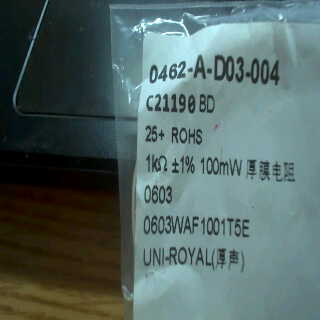1kR: (144, 151, 172, 174)
